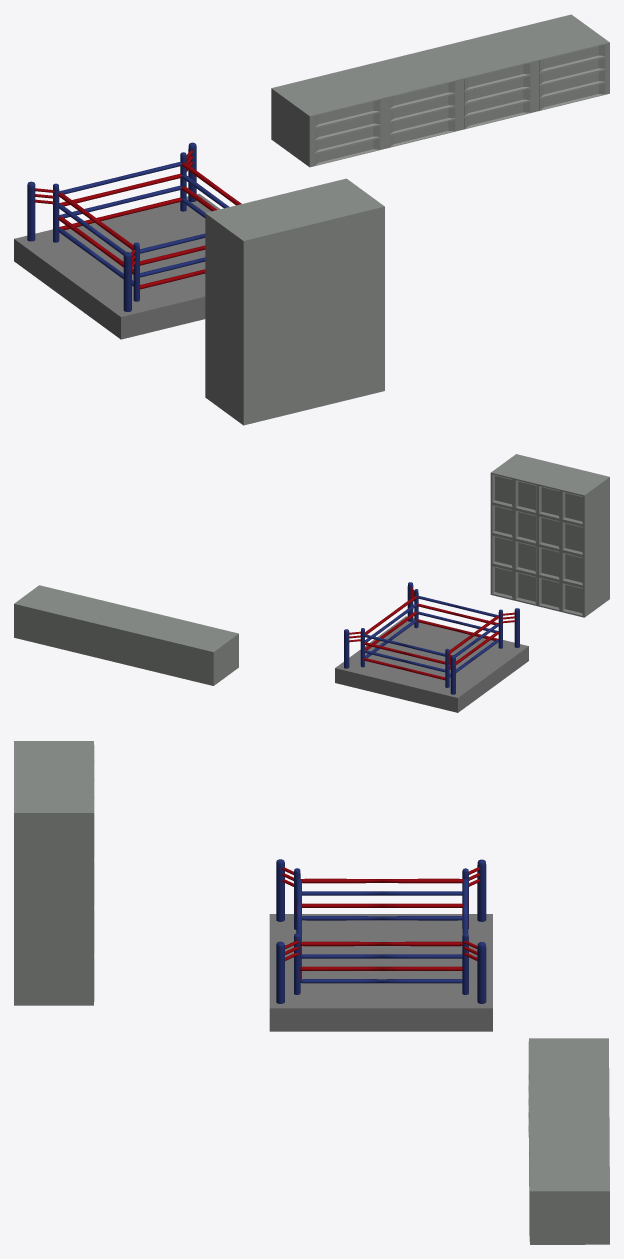
Rendered from ring_shelfs.fbx.
3 views of the same model, one above another, from view 1: azimuth 30°, elevation 25°; view 2: azimuth 150°, elevation 25°; view 3: azimuth 270°, elevation 25° (orthographic). The views are drawn at different scales.
Visible parts, largest first — view 1: Cube, Cube.002, Cube.050, Cube.051, Cube.049, Cube.041, Cube.042, Cube.043, Cube.044, Cube.052, Cube.047, Cube.046 (+1 smaller); view 2: Cube, Cube.002, Cube.050, Cube.051, Cube.049, Cube.041, Cube.042, Cube.043, Cube.044, Cube.052, Cube.047, Cube.046 (+1 smaller); view 3: Cube, Cube.050, Cube.002, Cube.051, Cube.052, Cube.047, Cube.046, Cube.045, Cube.049, Cube.041.
Part boxes in pixels (box(x1,y1,x2,y2)): Cube: box(205, 178, 384, 425); Cube.002: box(271, 14, 609, 167); Cube.050: box(14, 193, 220, 339); Cube.051: box(27, 142, 196, 311); Cube.049: box(53, 152, 186, 301); Cube.041: box(59, 162, 205, 253); Cube.042: box(59, 173, 205, 265); Cube.043: box(59, 185, 205, 277); Cube.044: box(59, 197, 205, 289); Cube.052: box(58, 162, 241, 249); Cube.047: box(58, 174, 229, 255); Cube.046: box(58, 186, 216, 274); Cube: box(490, 454, 609, 617); Cube.002: box(14, 585, 238, 685); Cube.050: box(335, 616, 528, 712); Cube.051: box(344, 582, 519, 694); Cube.049: box(360, 589, 502, 687); Cube.041: box(363, 595, 498, 656); Cube.042: box(363, 603, 498, 664); Cube.043: box(363, 611, 498, 672); Cube.044: box(363, 619, 498, 680); Cube.052: box(365, 596, 499, 653); Cube.047: box(365, 604, 498, 656); Cube.046: box(365, 611, 498, 669); Cube: box(14, 741, 94, 1005); Cube.050: box(269, 914, 492, 1031); Cube.002: box(528, 1038, 609, 1244); Cube.051: box(276, 859, 486, 1003); Cube.052: box(300, 878, 463, 946); Cube.047: box(300, 891, 462, 958); Cube.046: box(300, 903, 462, 970); Cube.045: box(300, 916, 462, 983); Cube.049: box(294, 868, 468, 994); Cube.041: box(296, 879, 468, 941).
Bounding box in the file's own units: 282 × 82.7 × 227.
